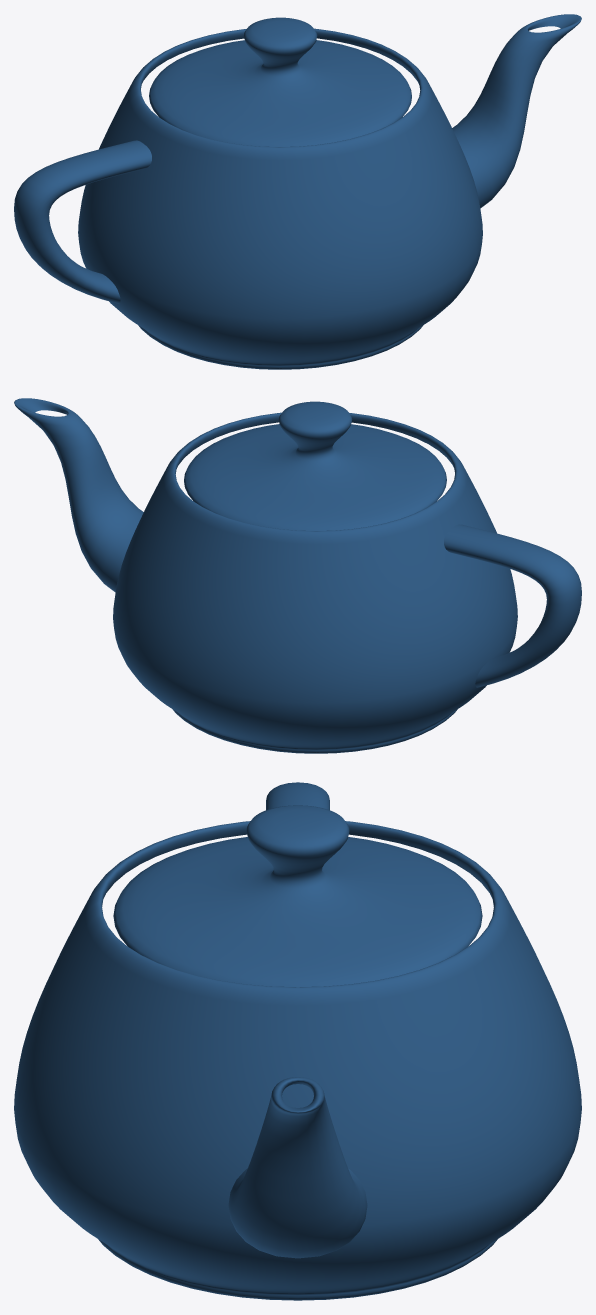
Rendered from teapot.glb.
The picture shows the model from 3 angles, top to bottom: view 1: azimuth 30°, elevation 25°; view 2: azimuth 150°, elevation 25°; view 3: azimuth 270°, elevation 25°; orthographic projection. The views are drawn at different scales.
Parts seen in each view (by area): view 1: Teapot; view 2: Teapot; view 3: Teapot.
Boxes of the visible parts, left/top/right/bottom form: Teapot: left=14, top=14, right=581, bottom=369; Teapot: left=14, top=398, right=581, bottom=753; Teapot: left=14, top=782, right=581, bottom=1300.
Bounding box in the file's own units: 0.286 × 0.14 × 0.1778.
